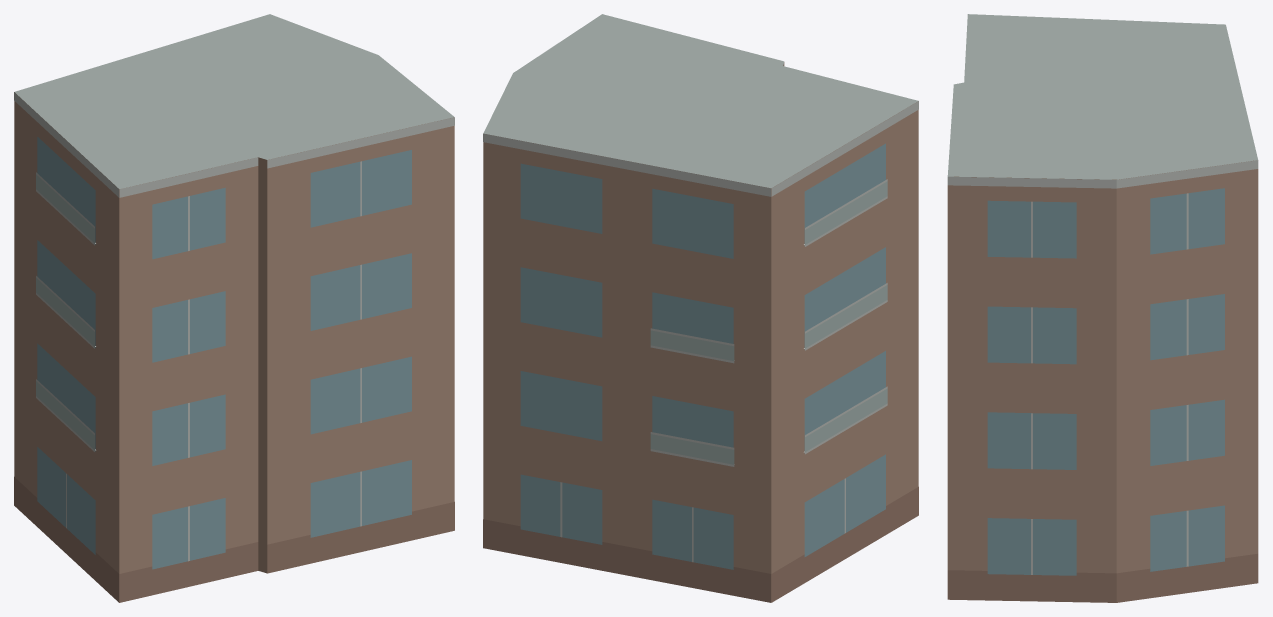
The model's file is survey-upis-32868300.glb.
3 views of the same model, side by side, from view 1: azimuth 30°, elevation 25°; view 2: azimuth 150°, elevation 25°; view 3: azimuth 270°, elevation 25° (orthographic). The views are drawn at different scales.
Parts seen in each view (by area): view 1: survey-upis-32868300.tmp; view 2: survey-upis-32868300.tmp; view 3: survey-upis-32868300.tmp.
Boxes of the visible parts, left/top/right/bottom form: survey-upis-32868300.tmp: left=14, top=14, right=454, bottom=602; survey-upis-32868300.tmp: left=483, top=14, right=918, bottom=602; survey-upis-32868300.tmp: left=947, top=14, right=1258, bottom=602.
Bounding box in the file's own units: 9.84 × 11.7 × 7.8.
